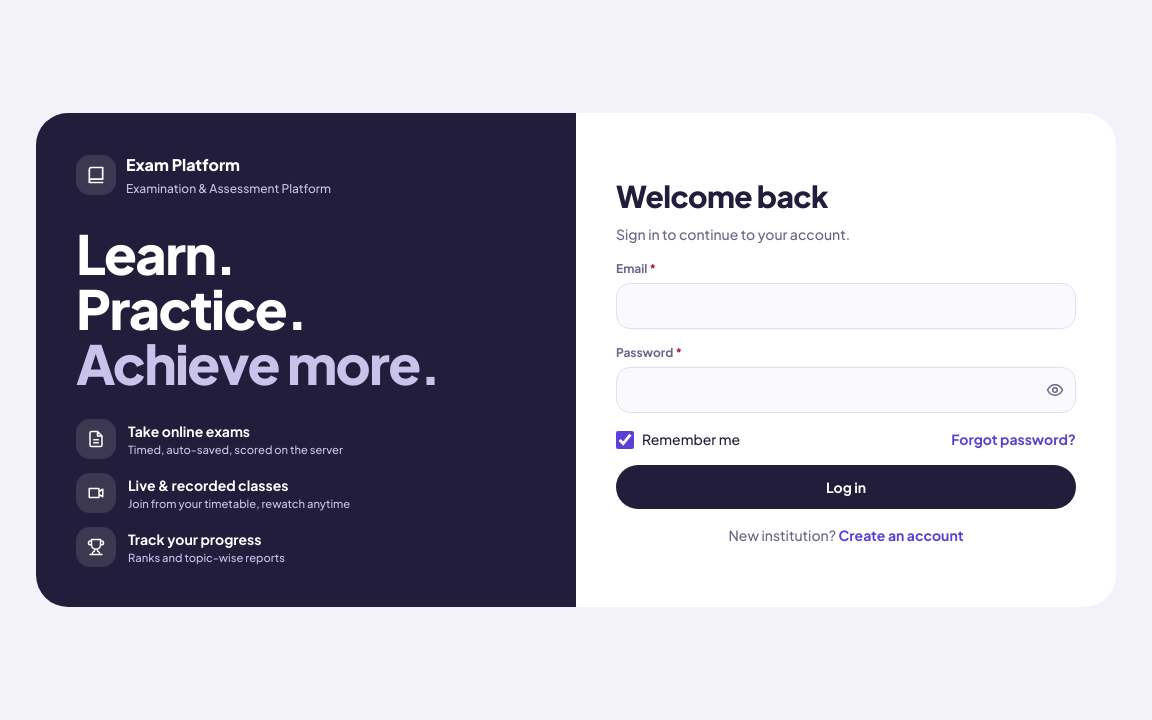
Test: LoginPage › signs in with the trimmed email and goes to the home page
In the field labelled "Email *": point(846, 306) [616, 283, 1076, 329], type "  owner@college.test  "
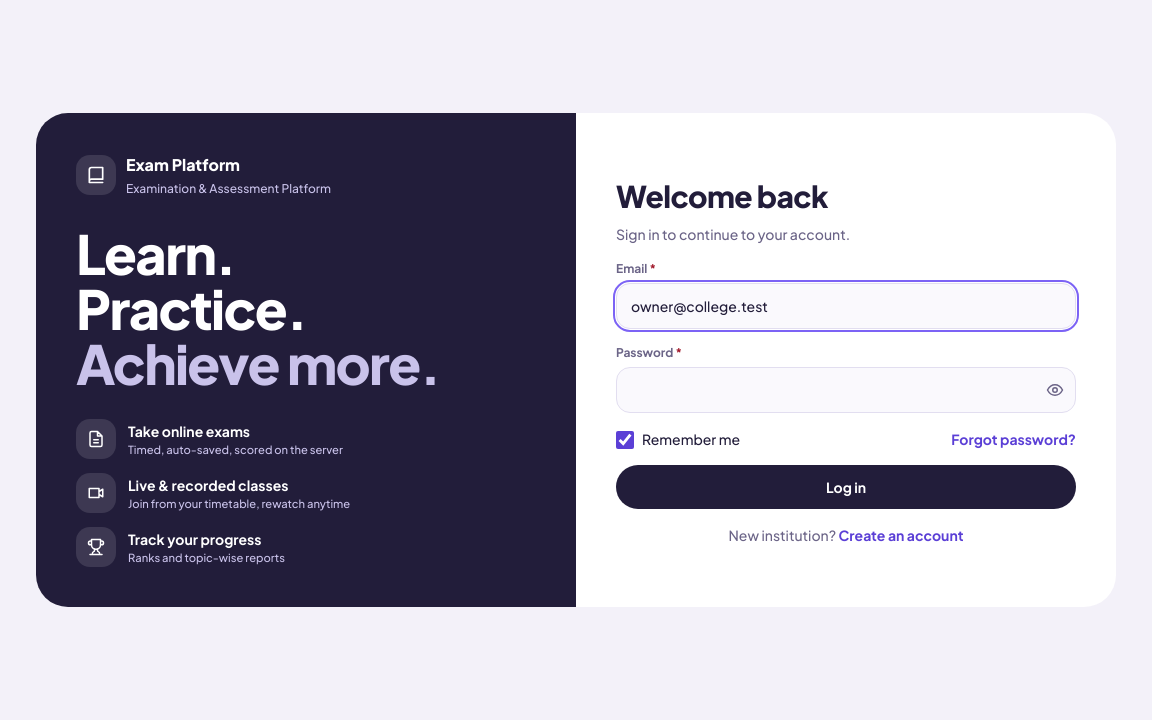
In the password field labelled "Password *": point(846, 390) [616, 367, 1076, 413], type "Passw0rd!x"
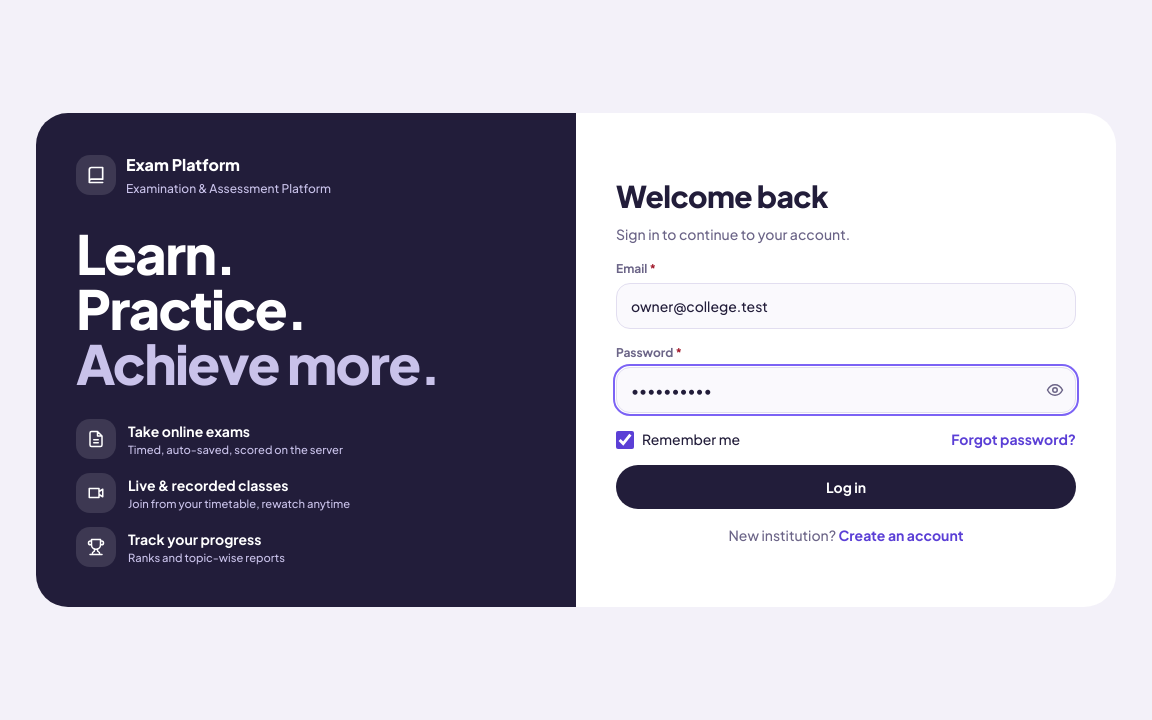
Click the button "Log in": point(846, 487) [616, 465, 1076, 509]
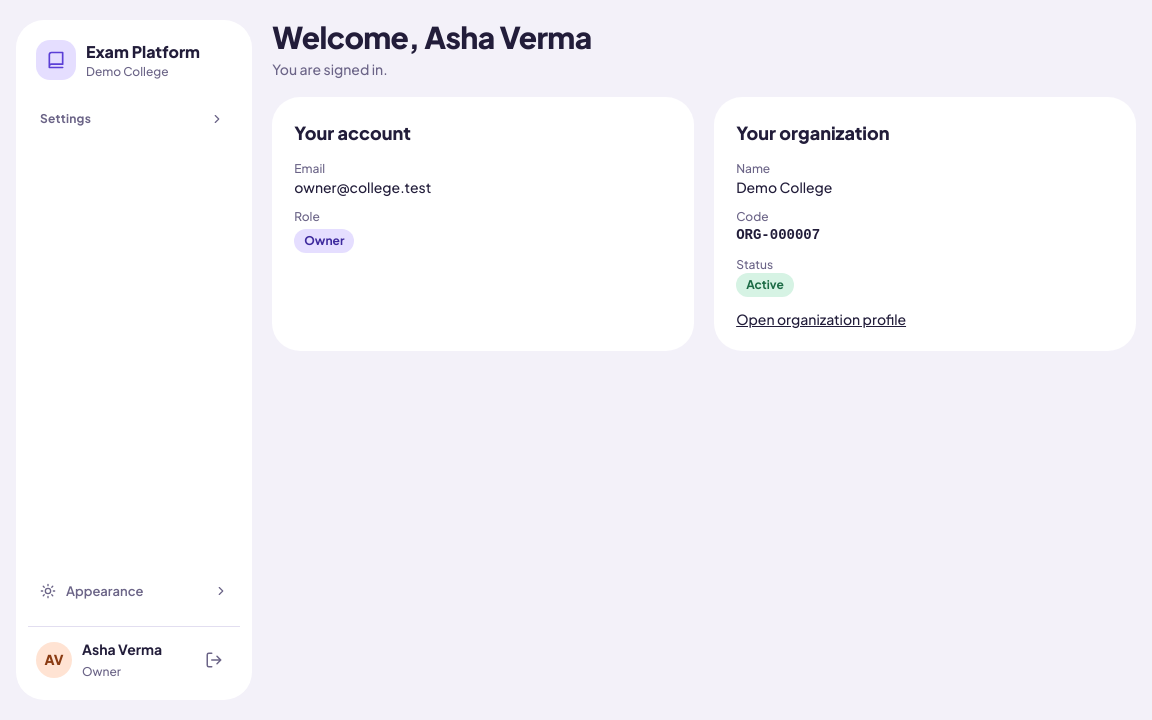
Check: the heading "Welcome, Asha Verma" is shown, box [272, 20, 592, 54]
